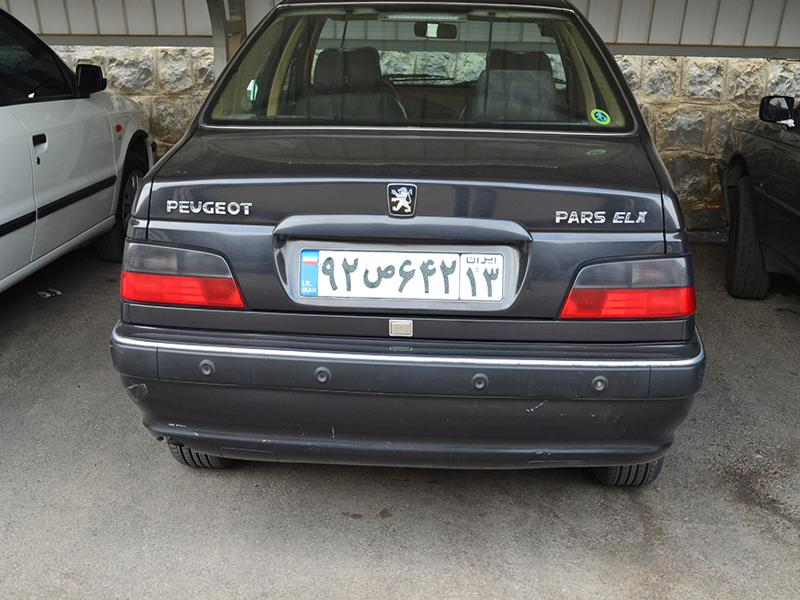Plate: (302, 245, 504, 303)
